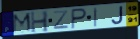H: (30, 10, 50, 34)
I: (93, 7, 99, 28)
J: (111, 5, 125, 25)
M: (12, 12, 33, 34)
P: (71, 8, 88, 30)
Z: (53, 10, 70, 30)
